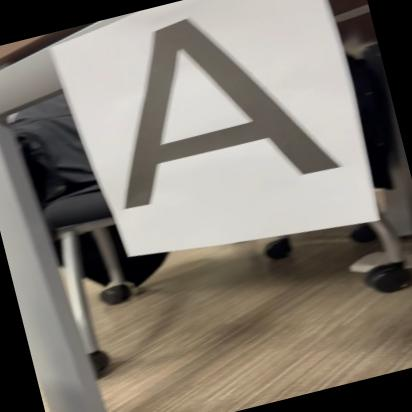seat: (62, 0, 365, 251)
